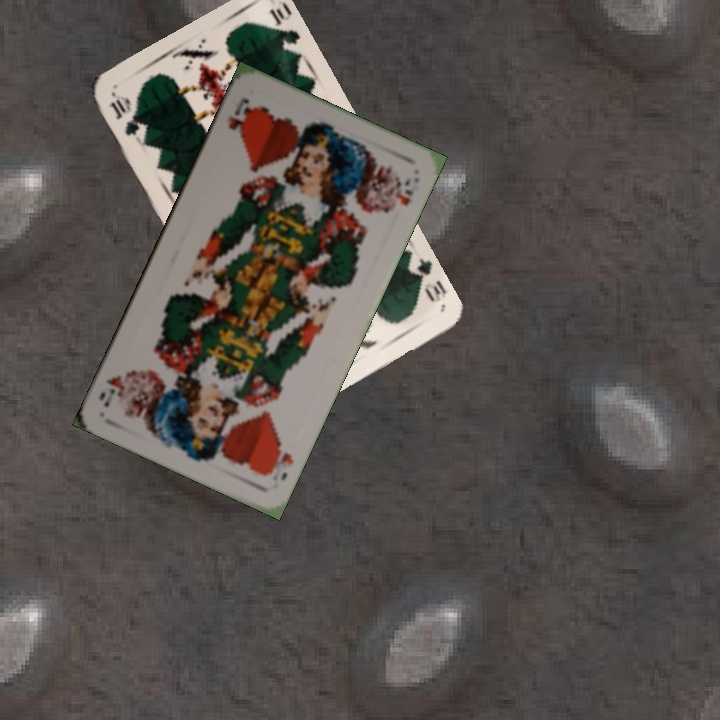G10: (403, 253, 449, 306), (107, 90, 143, 139)
HO: (261, 438, 297, 484), (223, 93, 256, 140)
